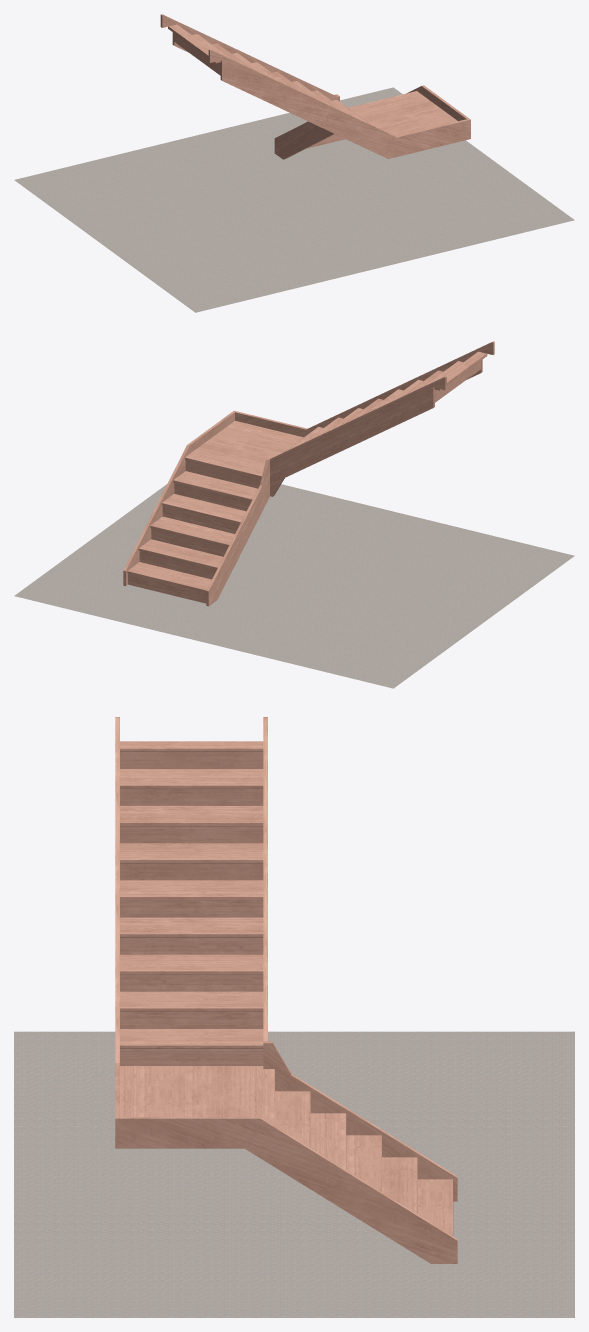
3 renders of one model, top to bottom at view 1: azimuth 30°, elevation 25°; view 2: azimuth 150°, elevation 25°; view 3: azimuth 270°, elevation 25°, orthographic. The views are drawn at different scales.
Parts seen in each view (by area): view 1: StairCon.034_36, StairCon.015_15, StairCon.029_29, StairCon.018_18, StairCon.017_17, StairCon.016_16, StairCon.025_25, StairCon.006_6; view 2: StairCon.034_36, StairCon.017_17, StairCon.029_29, StairCon.018_18, StairCon.015_15, StairCon.016_16, StairCon.019_19, StairCon.026_26, StairCon.027_27, StairCon.028_28, StairCon.020_20, StairCon_0 (+6 smaller); view 3: StairCon.034_36, StairCon.016_16, StairCon.029_29, StairCon.018_18, StairCon.021_21, StairCon.022_22, StairCon.023_23, StairCon.031_31, StairCon.032_32, StairCon.033_33, StairCon.024_24, StairCon.030_30 (+17 smaller).
Part boxes in pixels (bbox=[...]): StairCon.034_36: bbox=[14, 87, 574, 312]; StairCon.015_15: bbox=[208, 49, 470, 158]; StairCon.029_29: bbox=[348, 91, 457, 136]; StairCon.018_18: bbox=[274, 94, 339, 159]; StairCon.017_17: bbox=[160, 14, 337, 134]; StairCon.016_16: bbox=[407, 85, 468, 121]; StairCon.025_25: bbox=[168, 24, 221, 63]; StairCon.006_6: bbox=[174, 33, 220, 75]; StairCon.034_36: bbox=[14, 484, 574, 688]; StairCon.017_17: bbox=[270, 376, 446, 496]; StairCon.029_29: bbox=[185, 420, 303, 478]; StairCon.018_18: bbox=[206, 457, 271, 606]; StairCon.015_15: bbox=[233, 341, 494, 437]; StairCon.016_16: bbox=[123, 411, 234, 586]; StairCon.019_19: bbox=[127, 562, 211, 592]; StairCon.026_26: bbox=[150, 516, 234, 546]; StairCon.027_27: bbox=[162, 494, 246, 524]; StairCon.028_28: bbox=[173, 471, 257, 501]; StairCon.020_20: bbox=[138, 539, 223, 569]; StairCon_0: bbox=[128, 573, 206, 603]; StairCon.034_36: bbox=[14, 1031, 574, 1317]; StairCon.016_16: bbox=[118, 1117, 457, 1263]; StairCon.029_29: bbox=[120, 1066, 274, 1125]; StairCon.018_18: bbox=[263, 1041, 457, 1201]; StairCon.021_21: bbox=[120, 880, 263, 900]; StairCon.022_22: bbox=[120, 843, 263, 863]; StairCon.023_23: bbox=[120, 806, 263, 826]; StairCon.031_31: bbox=[120, 991, 263, 1011]; StairCon.032_32: bbox=[120, 954, 263, 974]; StairCon.033_33: bbox=[120, 917, 263, 937]; StairCon.024_24: bbox=[120, 769, 263, 788]; StairCon.030_30: bbox=[120, 1029, 263, 1048].
Size of the model in its own units: 4.75 by 2.71 by 3.93.
Materials: 5 (5 with a texture image).
